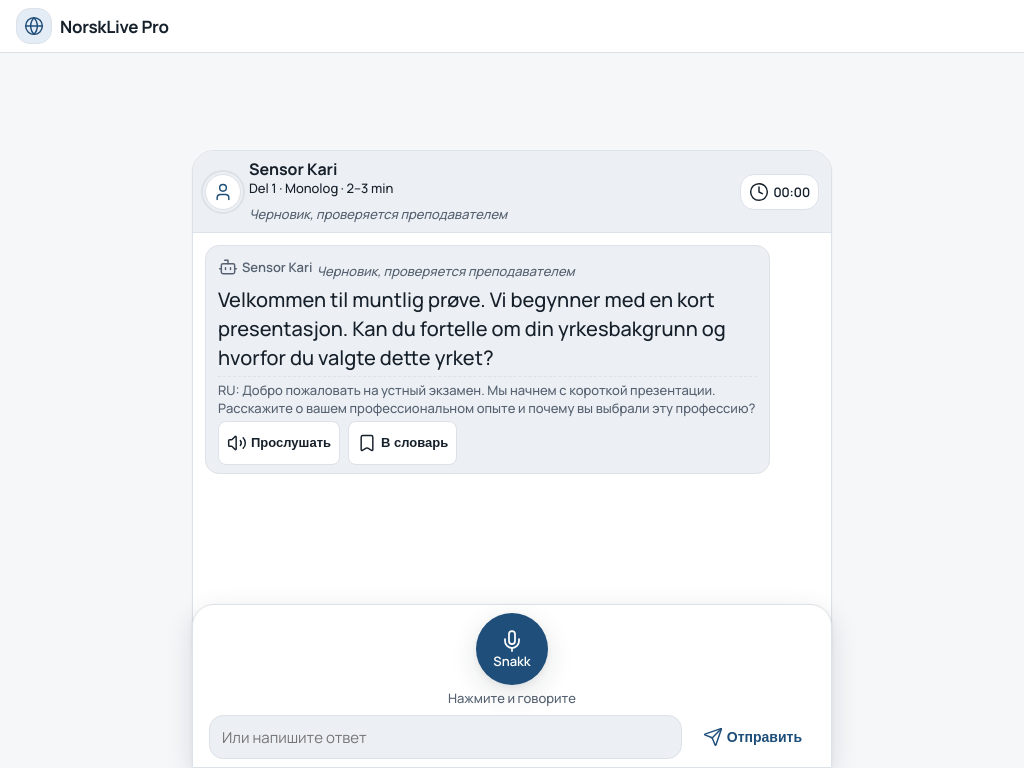
Test: #48 exam mode hides hints (B9) › exam mode hides «Попробуйте» and the answer suggestions
Type "Jeg bor i Bergen." into the field with id "userSpeechInput" at (445, 737), box [209, 715, 682, 759]
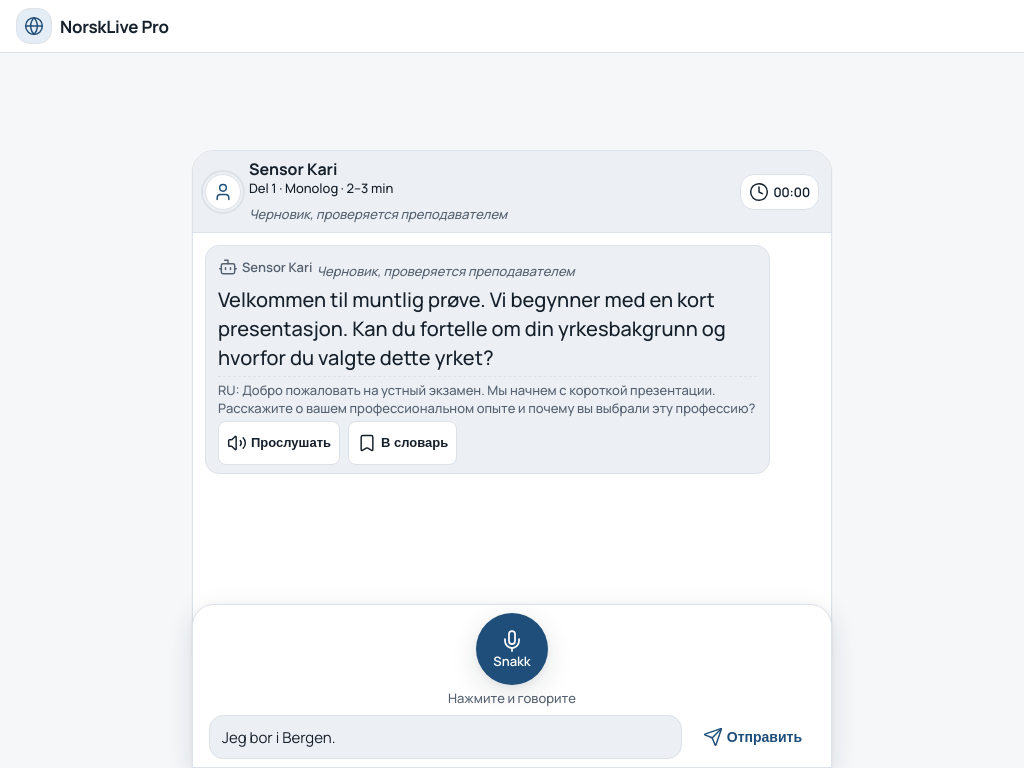
Click the button with id "sendSpeechBtn" at (752, 737), box [690, 715, 815, 759]
(page scrolled)
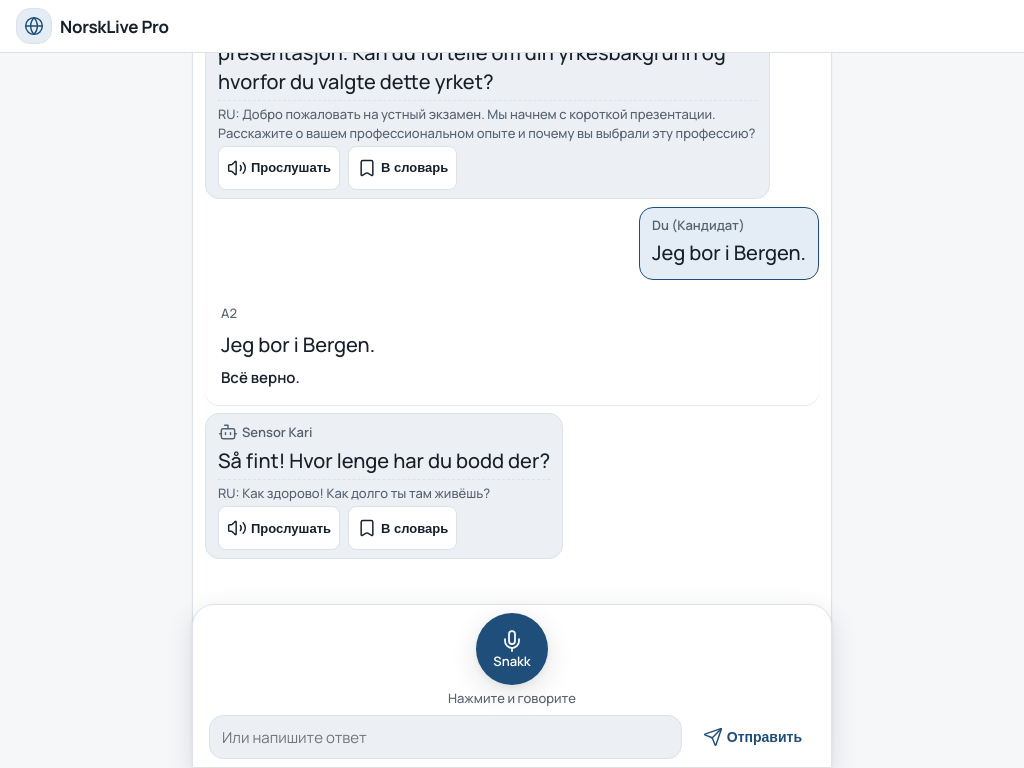
Now the element with id "latestCorrectionCard" is shown, box [205, 288, 819, 405]
Now the element with id "latestCorrectionCard" shows "Всё верно.", box [221, 367, 300, 388]
